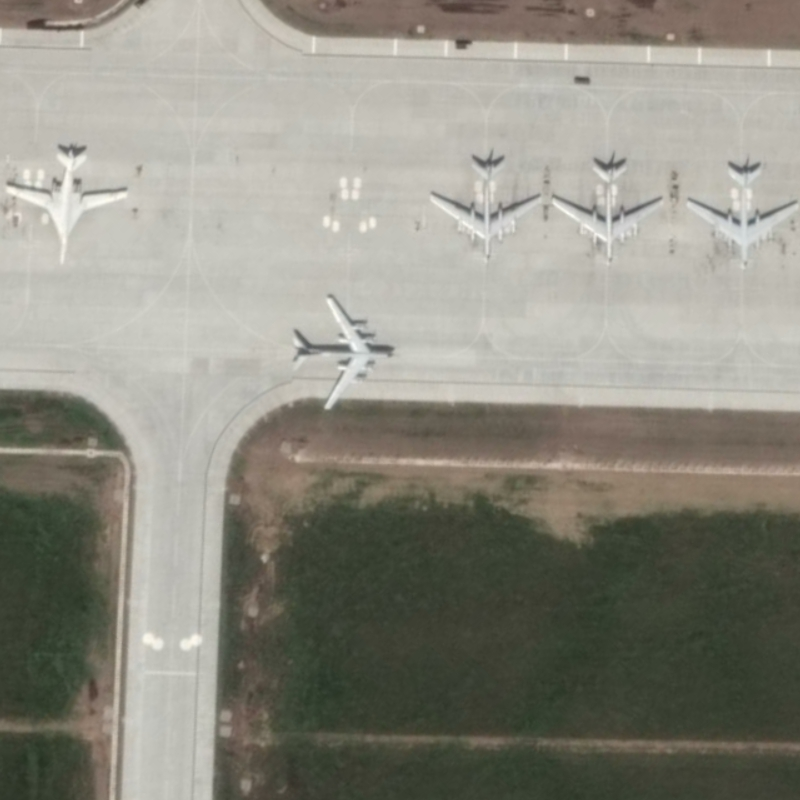A17: (289, 291, 402, 416), (550, 154, 669, 271), (426, 153, 546, 267), (683, 158, 800, 274)
A6: (3, 146, 134, 269)
